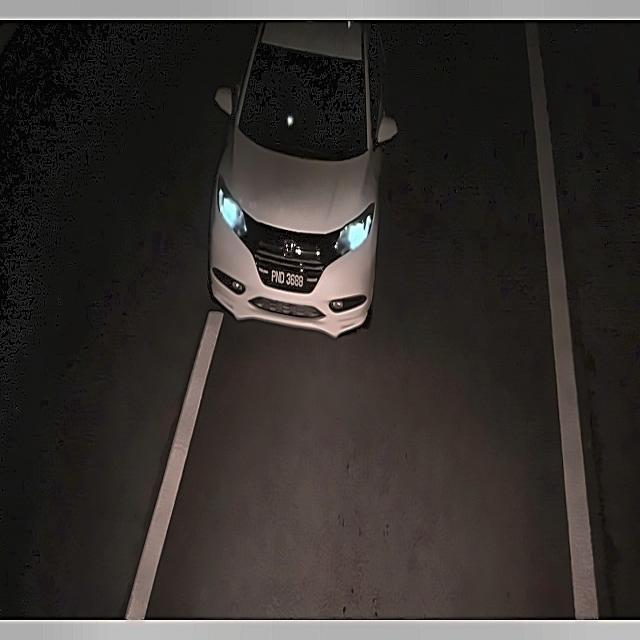car: (265, 261, 308, 296)
